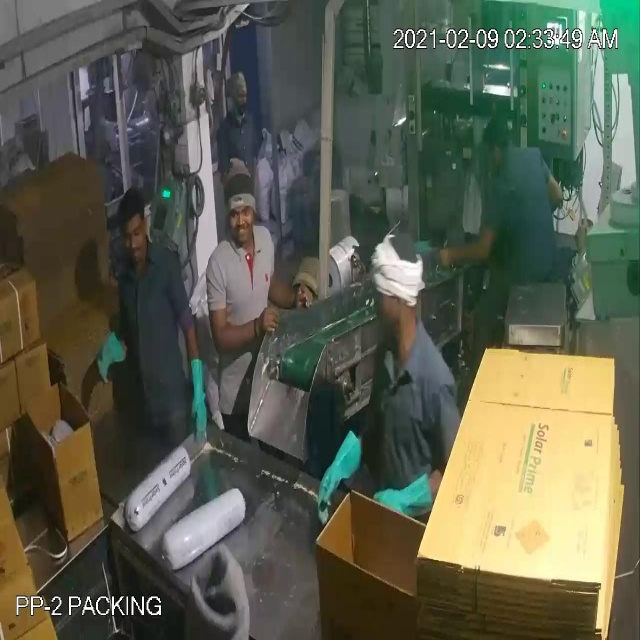Guantes: (312, 419, 369, 528), (369, 467, 444, 541), (179, 337, 220, 465), (95, 329, 128, 388)
Sin_guantes: (198, 284, 282, 358), (430, 214, 505, 279), (254, 267, 315, 320)
